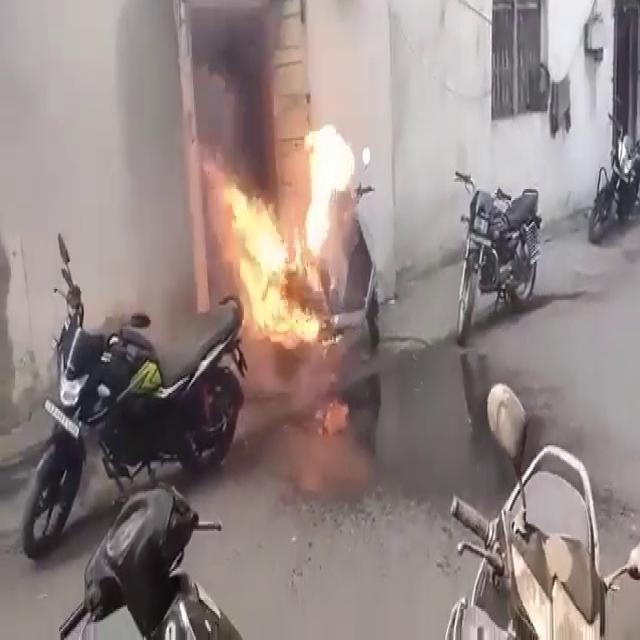Fire: (216, 113, 358, 349)
